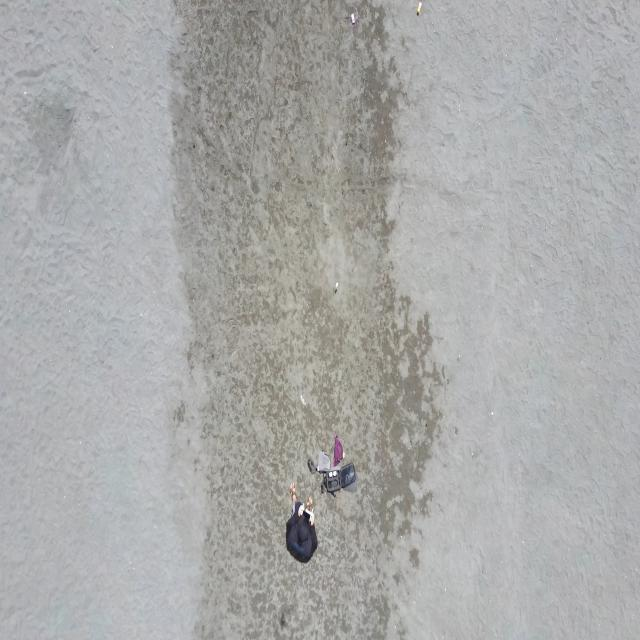Garbage: (415, 0, 422, 15)
